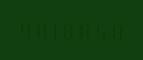eight: (62, 19, 76, 40), (32, 19, 46, 39), (77, 20, 91, 40), (107, 20, 121, 40)
five: (92, 20, 106, 40)
nine: (17, 19, 31, 39)
one: (47, 19, 61, 39)
